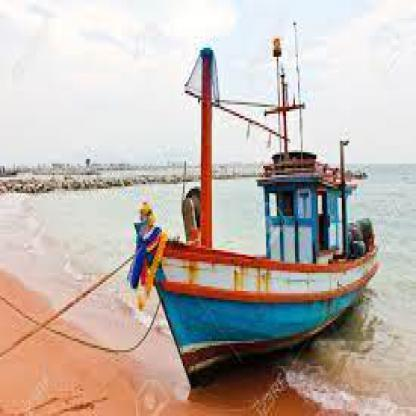fish-b: (124, 9, 390, 393)
